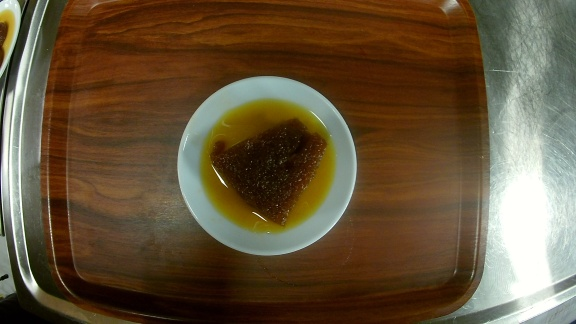ekmekkadayifi: (177, 76, 358, 255)
